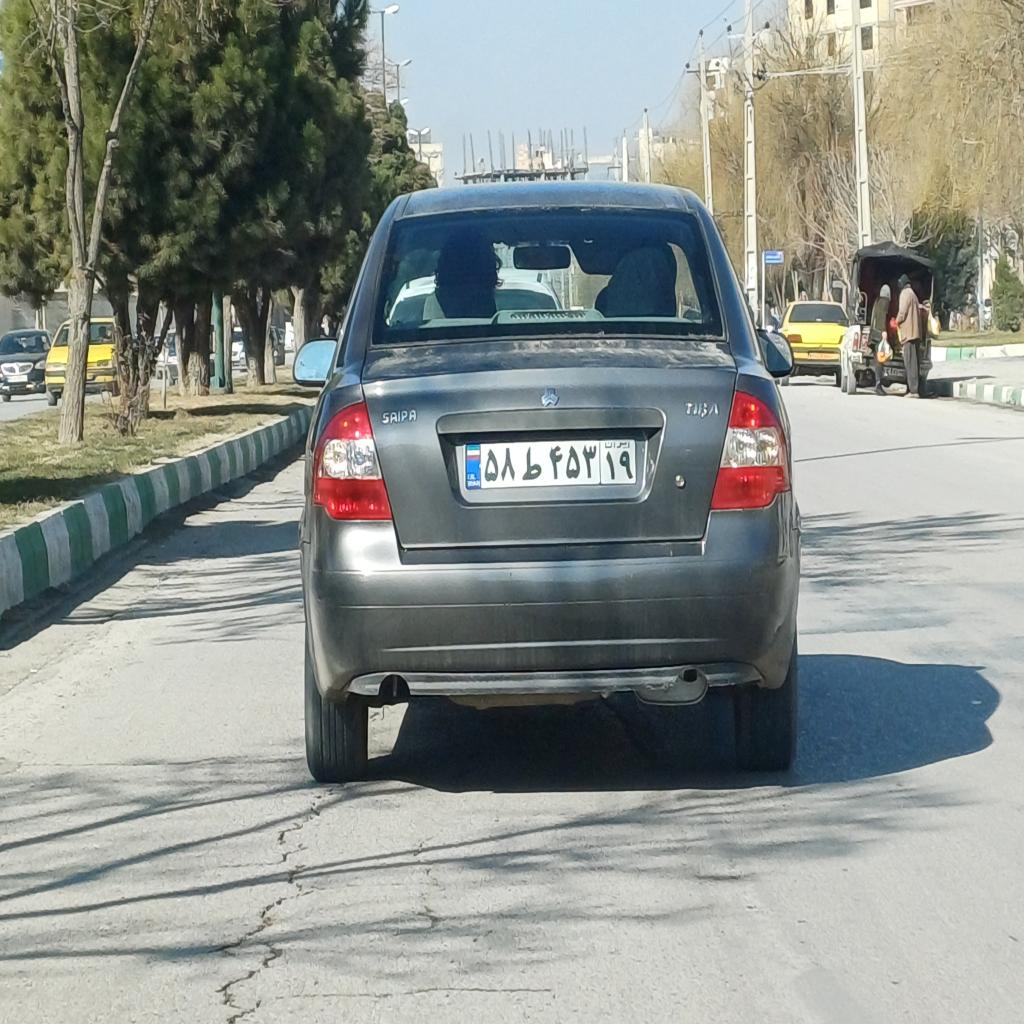Plates: (464, 438, 636, 490)
